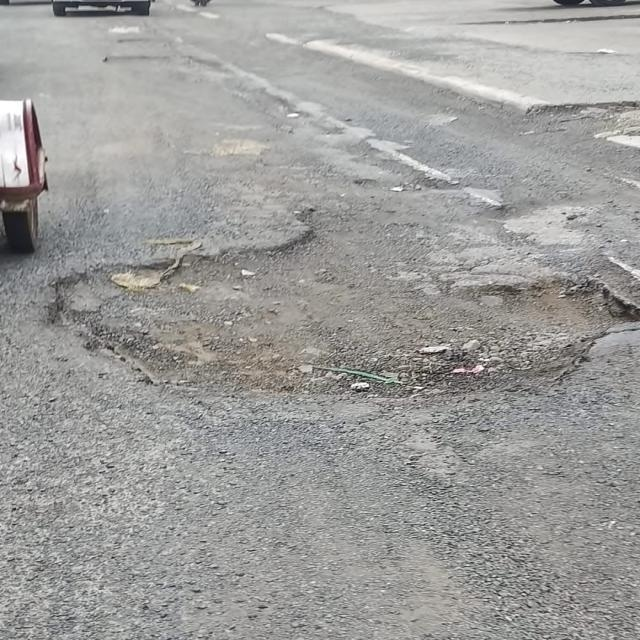pothole: (53, 212, 638, 463)
